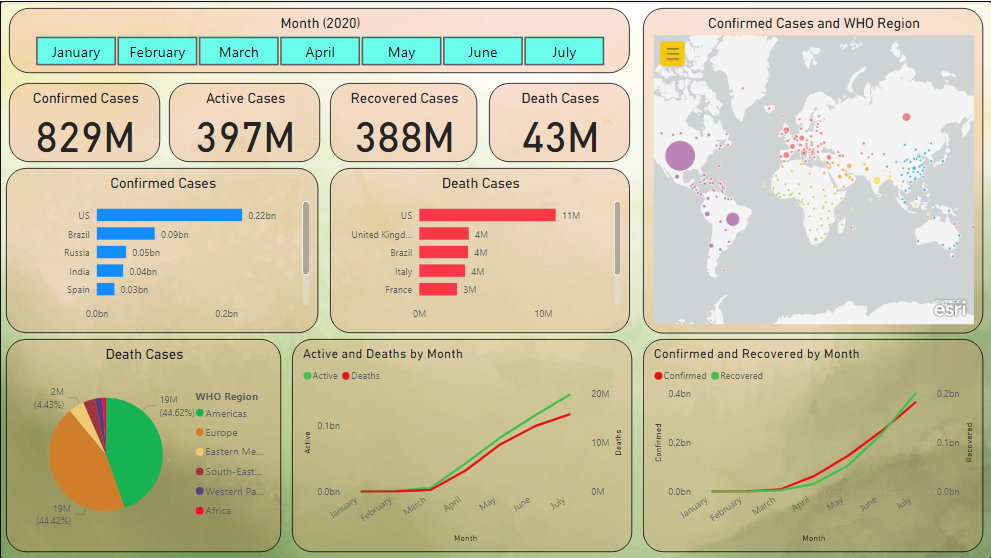

This screenshot's page, from the dashboard's own definition file:
{"tool":"powerbi","page":{"name":"Page 1","canvas":[1280,720],"ordinal":0},"visuals":[{"type":"slicer","title":"Month (2020)","fields":{"Values":["covid_19_clean_complete.Date.Variation.Date Hierarchy.Month"]},"box":[11,9.6,801,84],"z":0},{"type":"esriVisual","title":"Confirmed Cases and WHO Region","fields":{"Latitude":["covid_19_clean_complete.Lat"],"Longitude":["covid_19_clean_complete.Long"],"Size":["Sum(covid_19_clean_complete.Confirmed)"],"Color":["covid_19_clean_complete.WHO Region"]},"box":[829.9,9.6,439.1,419.8],"z":4},{"type":"barChart","title":"Confirmed Cases","fields":{"Category":["covid_19_clean_complete.Country/Region"],"Y":["Sum(covid_19_clean_complete.Confirmed)"]},"box":[8.3,216.1,403.3,213.3],"z":5},{"type":"lineChart","fields":{"Y":["Sum(covid_19_clean_complete.Confirmed)"],"Category":["covid_19_clean_complete.Date.Variation.Date Hierarchy.Month","covid_19_clean_complete.Date.Variation.Date Hierarchy.Day"],"Y2":["Sum(covid_19_clean_complete.Recovered)"]},"box":[829.9,436.3,439.1,275.3],"z":6},{"type":"pieChart","title":"Death Cases","fields":{"Y":["Sum(covid_19_clean_complete.Deaths)"],"Category":["covid_19_clean_complete.WHO Region"]},"box":[8.3,436.3,355.1,275.3],"z":7},{"type":"card","title":"Confirmed Cases","fields":{"Values":["Sum(covid_19_clean_complete.Confirmed)"]},"box":[11,106.4,195.4,101.8],"z":8},{"type":"card","title":"Active Cases","fields":{"Values":["Sum(covid_19_clean_complete.Active)"]},"box":[217.5,106.4,195.4,101.8],"z":9},{"type":"card","title":"Recovered Cases","fields":{"Values":["Sum(covid_19_clean_complete.Recovered)"]},"box":[425.3,106.4,189.9,101.8],"z":10},{"type":"card","title":"Death Cases","fields":{"Values":["Sum(covid_19_clean_complete.Deaths)"]},"box":[630.4,106.4,181.7,101.8],"z":11},{"type":"lineChart","fields":{"Category":["covid_19_clean_complete.Date.Variation.Date Hierarchy.Month","covid_19_clean_complete.Date.Variation.Date Hierarchy.Day"],"Y":["Sum(covid_19_clean_complete.Active)"],"Y2":["Sum(covid_19_clean_complete.Deaths)"]},"box":[377.1,436.3,439.1,275.3],"z":12},{"type":"barChart","title":"Death Cases","fields":{"Category":["covid_19_clean_complete.Country/Region"],"Y":["Sum(covid_19_clean_complete.Deaths)"]},"box":[425.3,216.1,386.8,213.3],"z":13}]}

Visuals, with their boxes in screenshot pixels (x1, y1, x2, y2), scaled from the page's 1280x720 canvas onto the 991x558 screenshot:
"Month (2020)" slicer: 9:7:629:73
"Confirmed Cases and WHO Region" esriVisual: 643:7:982:333
"Confirmed Cases" barChart: 6:167:319:333
lineChart - Sum(covid_19_clean_complete.Confirmed) x covid_19_clean_complete.Date.Variation.Date Hierarchy.Month: 643:338:982:551
"Death Cases" pieChart: 6:338:281:551
"Confirmed Cases" card: 9:82:160:161
"Active Cases" card: 168:82:320:161
"Recovered Cases" card: 329:82:476:161
"Death Cases" card: 488:82:629:161
lineChart - covid_19_clean_complete.Date.Variation.Date Hierarchy.Month x covid_19_clean_complete.Date.Variation.Date Hierarchy.Day: 292:338:632:551
"Death Cases" barChart: 329:167:629:333
